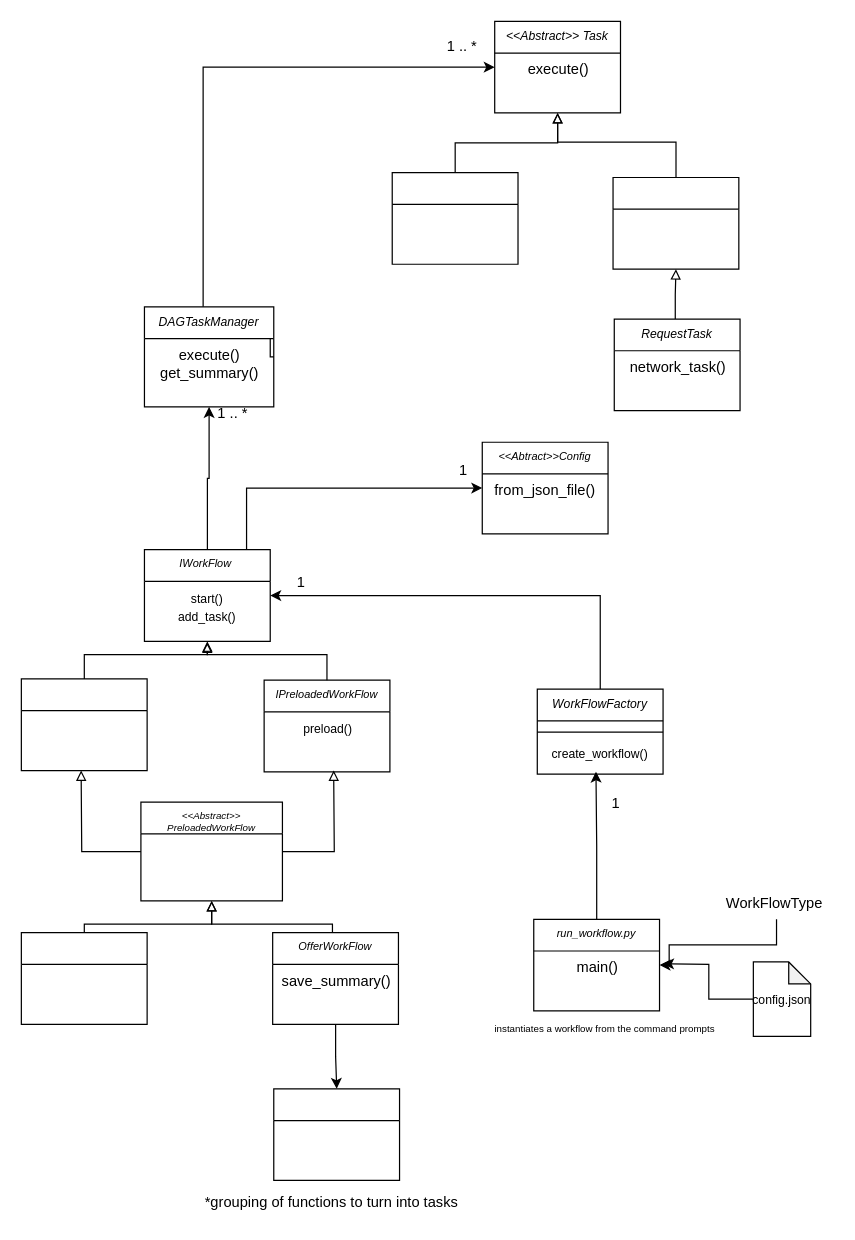
Image size: 855x1240. Some labels were removed from this diagram. Each missing label, with the centre of its shape:
"AsyncTask" belongs at point (675, 222).
"BasicWorkFlow" belongs at point (83, 724).
"OfferWorkFlowFunctions" belongs at point (336, 1134).
"SyncTask" belongs at point (454, 217).
"YourCustomWorkFlow" belongs at point (83, 977).
